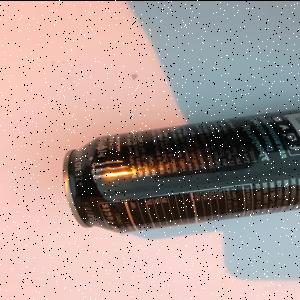Can: (62, 109, 300, 235)
